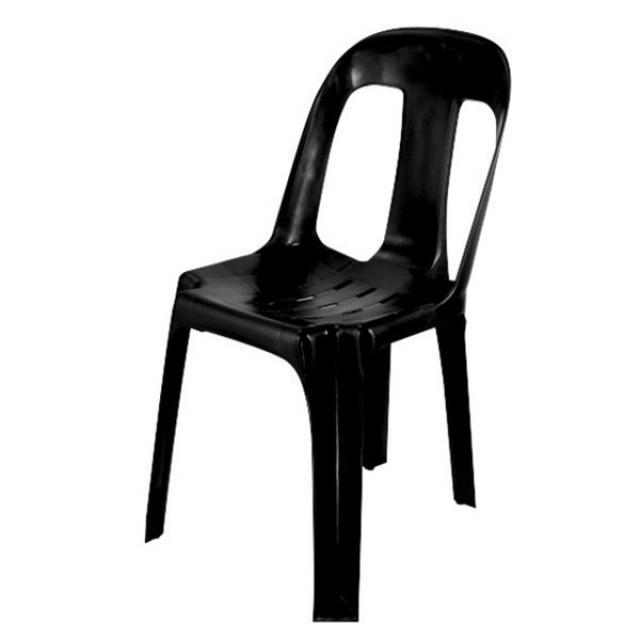chair: (142, 24, 516, 626)
